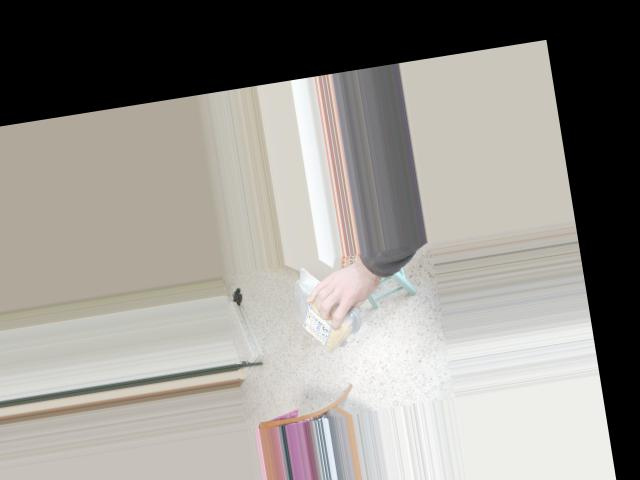cheese: (292, 262, 350, 366)
